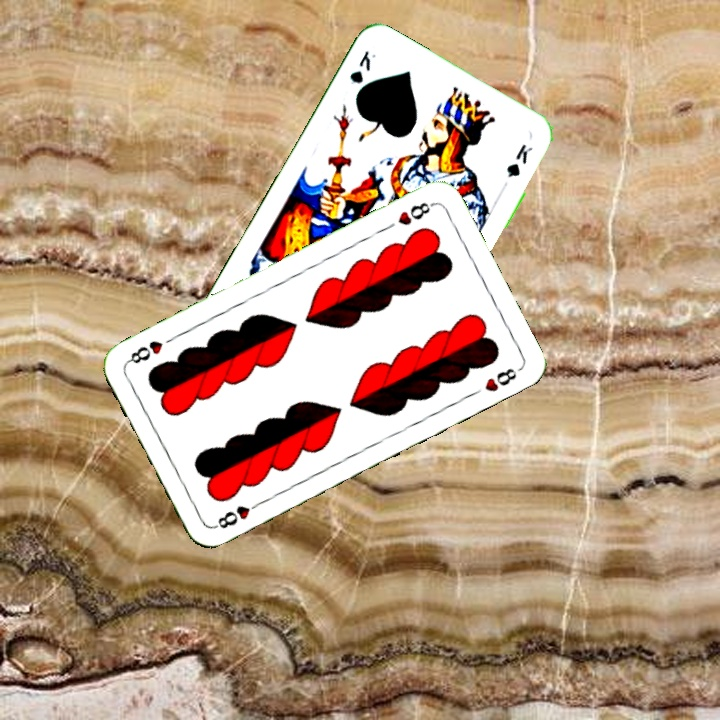GK: (345, 46, 379, 87)
H8: (210, 497, 265, 532), (393, 198, 437, 228)
